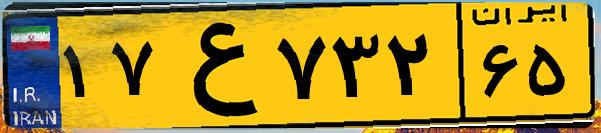1: (57, 26, 110, 100)
2: (385, 28, 445, 110)
3: (330, 28, 385, 110)
5: (525, 38, 570, 115)
6: (475, 38, 525, 113)
7: (270, 28, 330, 110), (110, 28, 158, 98)
ع: (158, 12, 270, 120)
